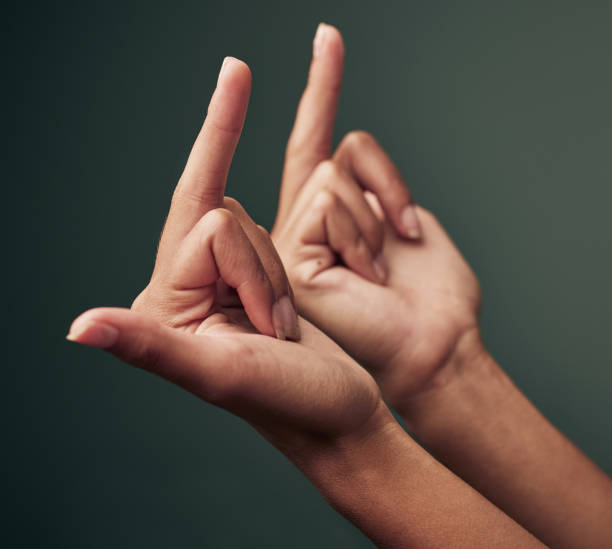insulting_gesture: (61, 52, 350, 428), (269, 16, 466, 374)
